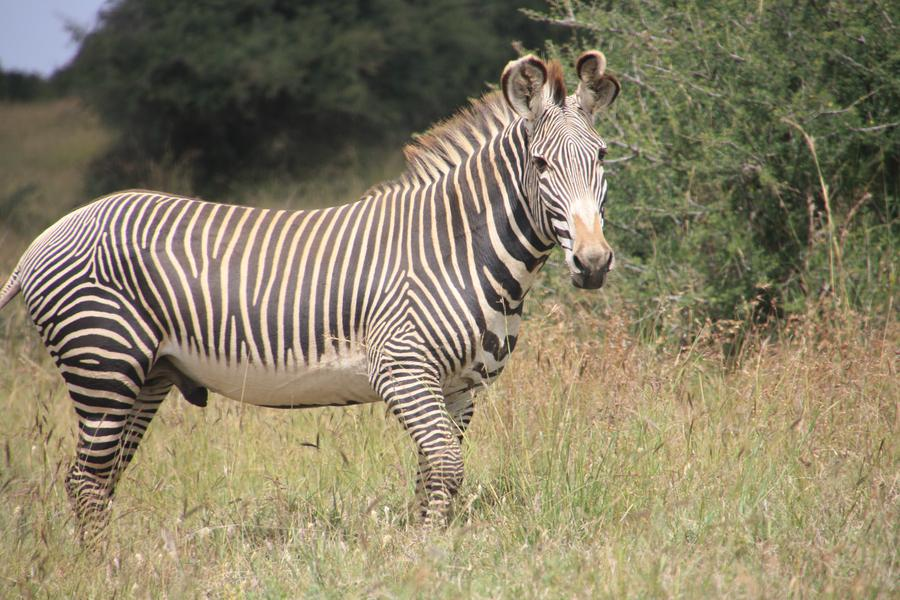zebra_grevys: (21, 186, 464, 372)
